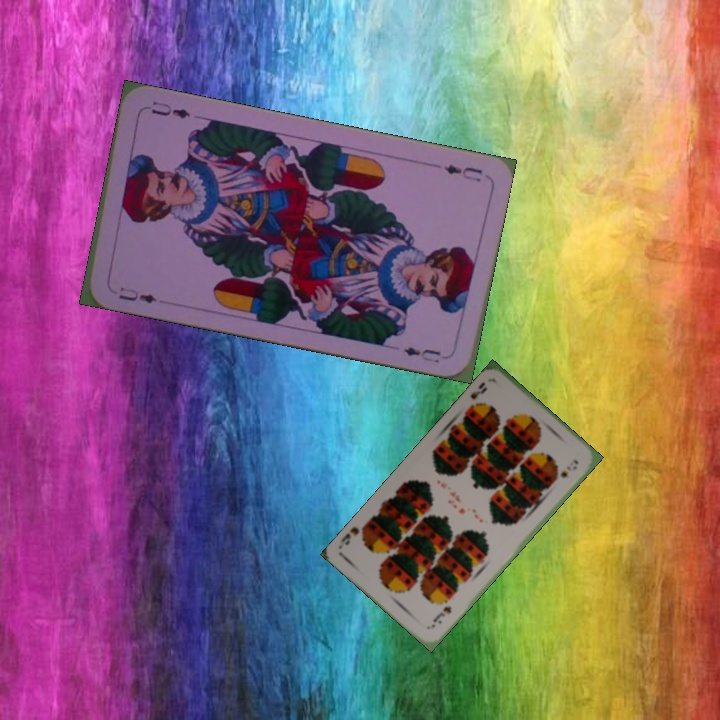EU: (440, 160, 486, 185), (115, 282, 159, 307)
S9: (464, 378, 489, 412), (427, 602, 454, 631)
